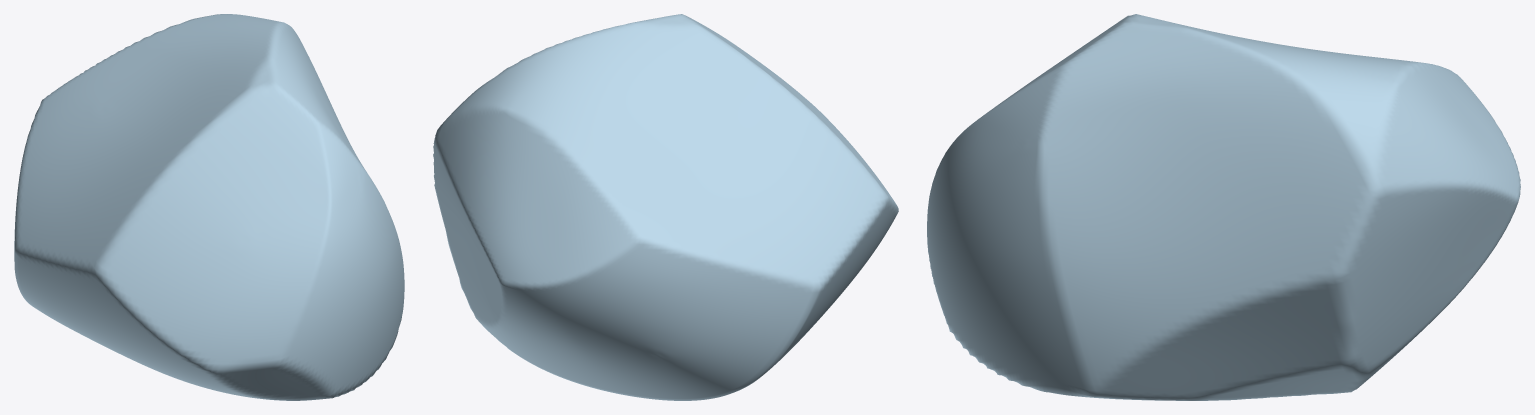
The model's file is Stone1.fbx.
The picture shows the model from 3 angles, left to right: view 1: azimuth 30°, elevation 25°; view 2: azimuth 150°, elevation 25°; view 3: azimuth 270°, elevation 25°; orthographic projection. The views are drawn at different scales.
Visible parts, largest first — view 1: 立方体; view 2: 立方体; view 3: 立方体.
Boxes of the visible parts, left/top/right/bottom form: 立方体: left=14, top=14, right=404, bottom=400; 立方体: left=433, top=14, right=898, bottom=400; 立方体: left=927, top=14, right=1520, bottom=400.
Bounding box in the file's own units: 292 × 234 × 359.
